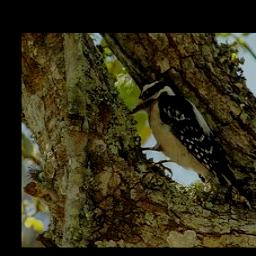Woodpecker: (126, 73, 255, 206)
